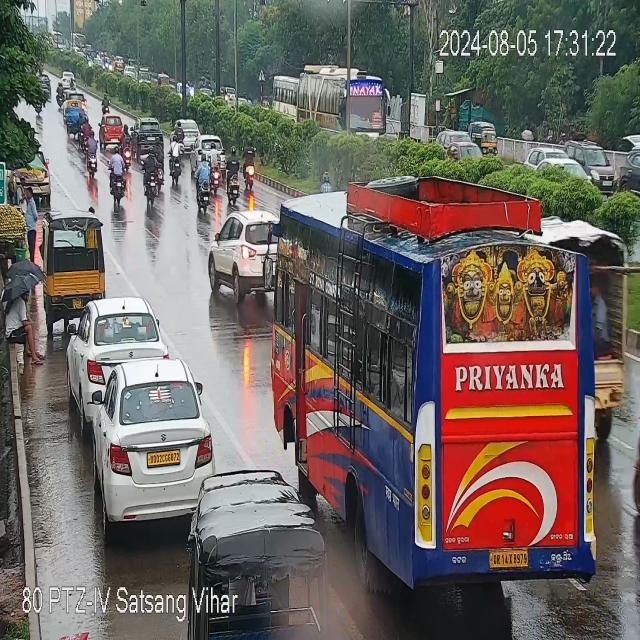2-wheelers: (194, 159, 215, 216), (224, 153, 246, 204), (109, 144, 124, 205), (144, 146, 158, 206), (240, 145, 258, 190), (169, 138, 183, 186), (87, 128, 98, 181), (210, 142, 220, 192), (155, 134, 164, 186), (123, 120, 132, 169), (58, 82, 64, 110), (102, 95, 109, 112), (176, 120, 182, 138)
auto: (197, 460, 321, 620), (44, 213, 106, 322), (64, 92, 88, 137)
bus: (267, 167, 603, 580), (264, 72, 393, 146)
car: (94, 359, 212, 521), (74, 303, 165, 412), (207, 213, 285, 304), (191, 126, 224, 163), (32, 148, 55, 200), (100, 114, 122, 145), (184, 119, 202, 150), (62, 69, 75, 89)
pedestrian: (4, 282, 46, 372), (25, 187, 38, 260), (18, 177, 27, 208)
truck: (589, 205, 633, 433)
